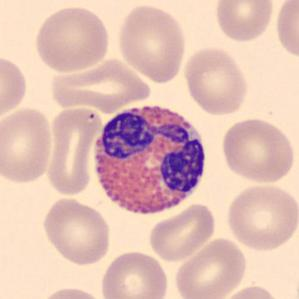Eosinophil: (87, 96, 212, 224)
RBC: (47, 55, 154, 114), (114, 1, 188, 84), (32, 3, 112, 74), (218, 115, 296, 186), (223, 180, 298, 253), (44, 106, 103, 198), (40, 195, 113, 267), (181, 45, 250, 117), (173, 236, 248, 298), (0, 106, 56, 186), (146, 201, 218, 263), (98, 248, 170, 299), (211, 0, 276, 43), (0, 51, 30, 121), (273, 0, 298, 61), (218, 283, 284, 299), (36, 285, 106, 299)
